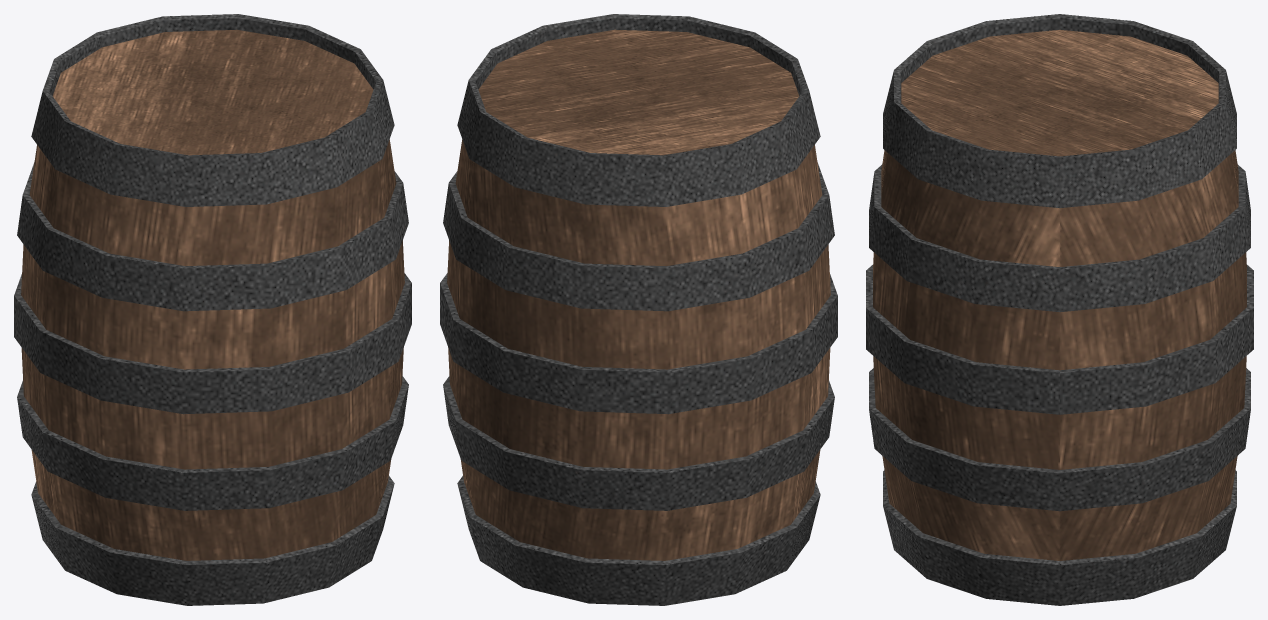
The model's file is Barrel.fbx.
3 renders of one model, left to right at view 1: azimuth 30°, elevation 25°; view 2: azimuth 150°, elevation 25°; view 3: azimuth 270°, elevation 25°, orthographic.
Visible parts, largest first — view 1: Barrel; view 2: Barrel; view 3: Barrel.
Part boxes in pixels (<box>): Barrel: <box>14,14,411,605</box>; Barrel: <box>440,14,837,605</box>; Barrel: <box>866,14,1253,605</box>.
Size of the model in its own units: 100 by 124 by 97.65.
1 material, 1 textured.
